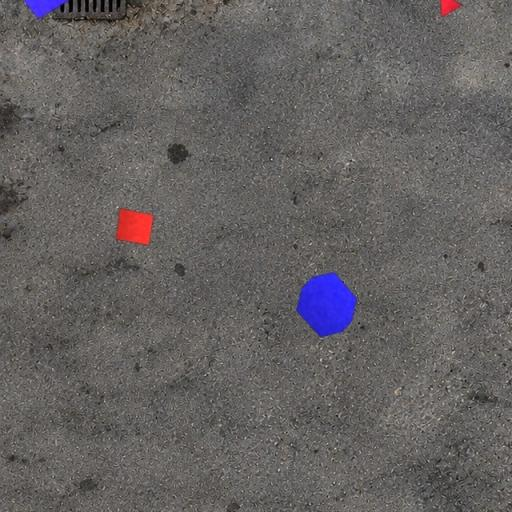RED_SQUARE: (116, 208, 154, 246)
